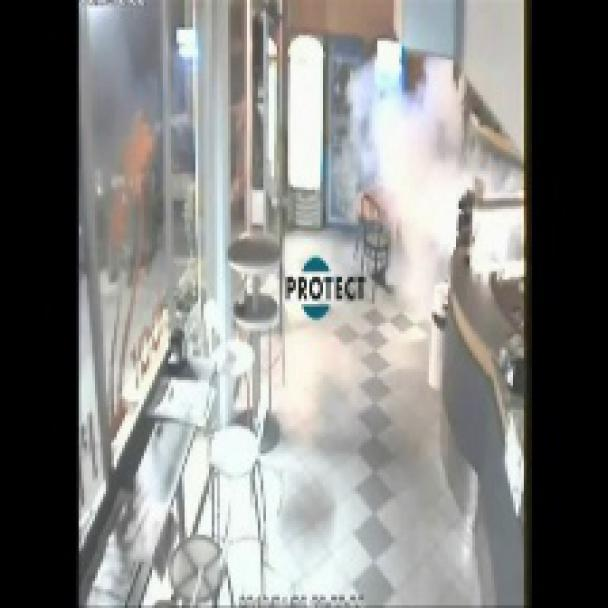smoke: (311, 35, 526, 320)
